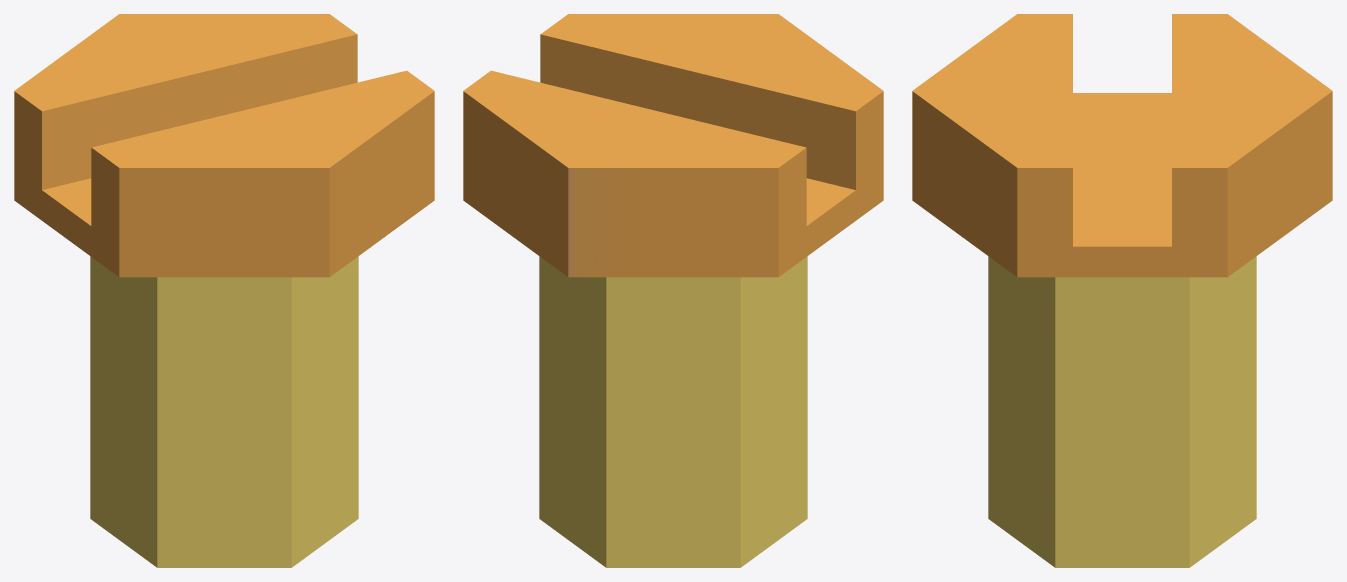
The model's file is Scrap_Bolt.fbx.
3 renders of one model, left to right at view 1: azimuth 30°, elevation 25°; view 2: azimuth 150°, elevation 25°; view 3: azimuth 270°, elevation 25°, orthographic.
Visible parts, largest first — view 1: Bolt; view 2: Bolt; view 3: Bolt.
Boxes of the visible parts, bbox=[...] form: Bolt: bbox=[14, 14, 434, 567]; Bolt: bbox=[463, 14, 883, 567]; Bolt: bbox=[912, 14, 1332, 567].
Bounding box in the file's own units: 272 × 352 × 314.
